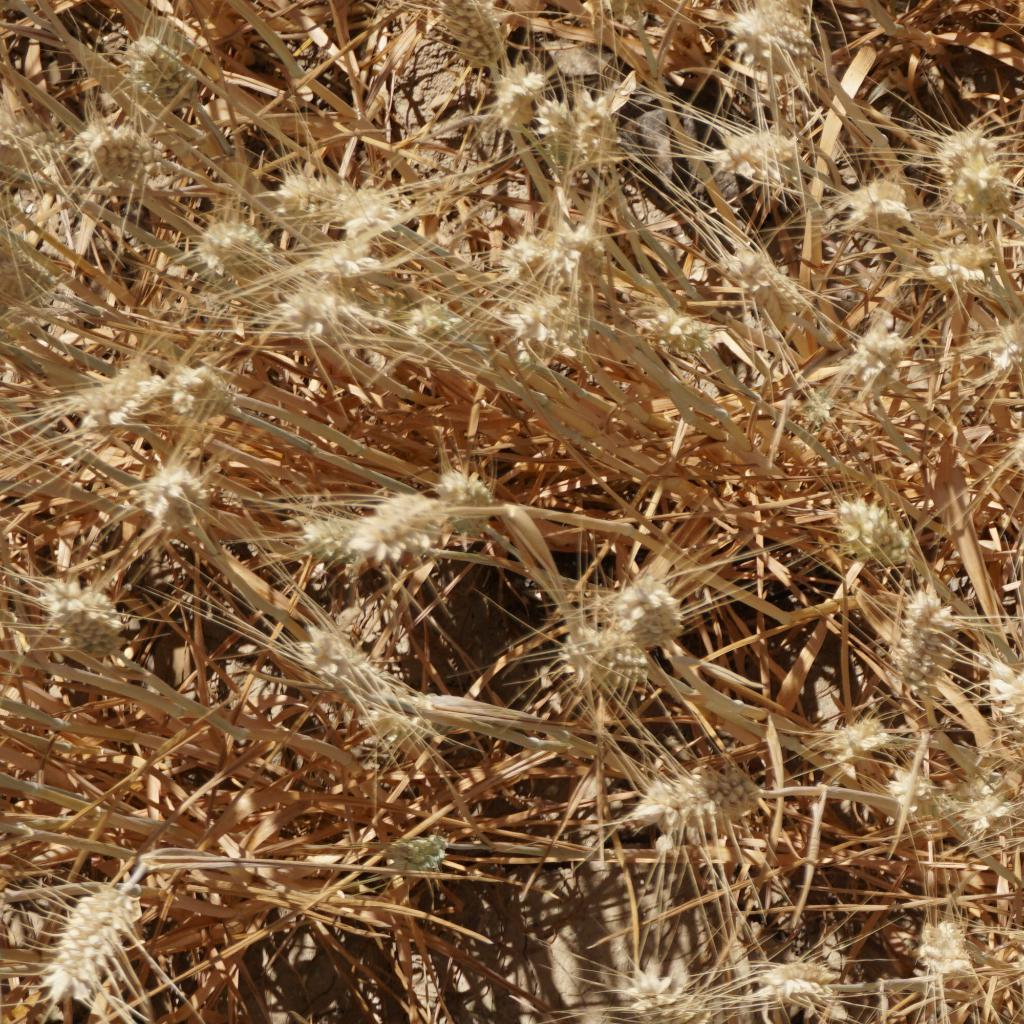0-0: (43, 886, 165, 1014), (287, 624, 399, 714), (545, 612, 661, 698), (874, 581, 956, 700), (149, 350, 260, 437), (118, 23, 234, 106), (927, 110, 1021, 212), (898, 222, 1000, 313), (27, 565, 135, 649), (825, 496, 939, 572), (135, 454, 220, 555), (47, 350, 163, 423), (712, 116, 813, 198), (819, 709, 913, 795), (665, 756, 768, 833), (728, 246, 819, 328), (354, 480, 451, 555), (543, 90, 626, 177), (735, 0, 835, 67), (608, 567, 697, 640), (618, 961, 718, 1024), (838, 179, 919, 251), (516, 230, 598, 301), (758, 949, 835, 1024), (893, 763, 966, 840), (514, 299, 592, 370), (70, 106, 145, 179), (844, 316, 913, 395), (0, 102, 62, 186), (632, 281, 700, 354), (441, 464, 498, 551), (262, 167, 346, 226), (903, 900, 963, 982), (980, 657, 1024, 768), (411, 293, 488, 356), (283, 478, 350, 549), (200, 224, 279, 283), (494, 43, 545, 130), (442, 0, 496, 81), (958, 772, 1024, 834), (366, 819, 435, 870), (0, 260, 76, 301), (984, 313, 1024, 376), (1002, 401, 1024, 480), (1006, 927, 1024, 984)
